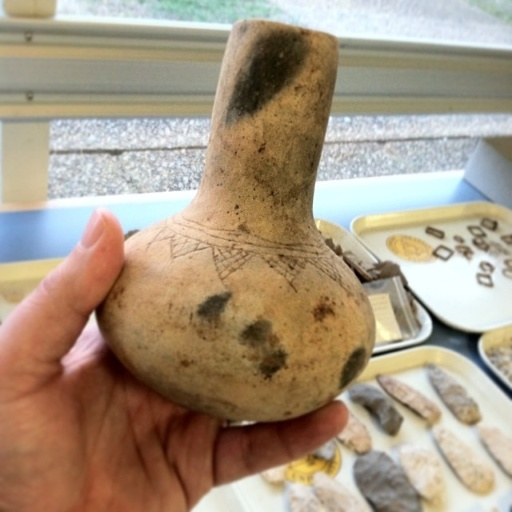hand: (0, 205, 352, 511)
